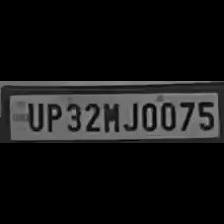0: (138, 99, 158, 131), (158, 98, 176, 132)
2: (82, 99, 100, 133)
3: (62, 100, 82, 132)
5: (192, 98, 216, 132)
7: (176, 98, 194, 132)
J: (122, 100, 138, 132)
M: (102, 99, 120, 134)
P: (44, 100, 62, 132)
U: (22, 99, 44, 131)
